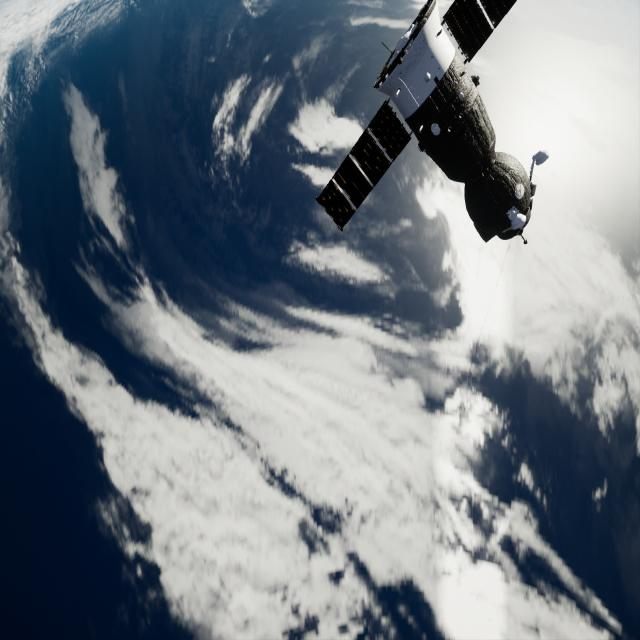Satellites revolving around earth: (314, 1, 548, 247)
